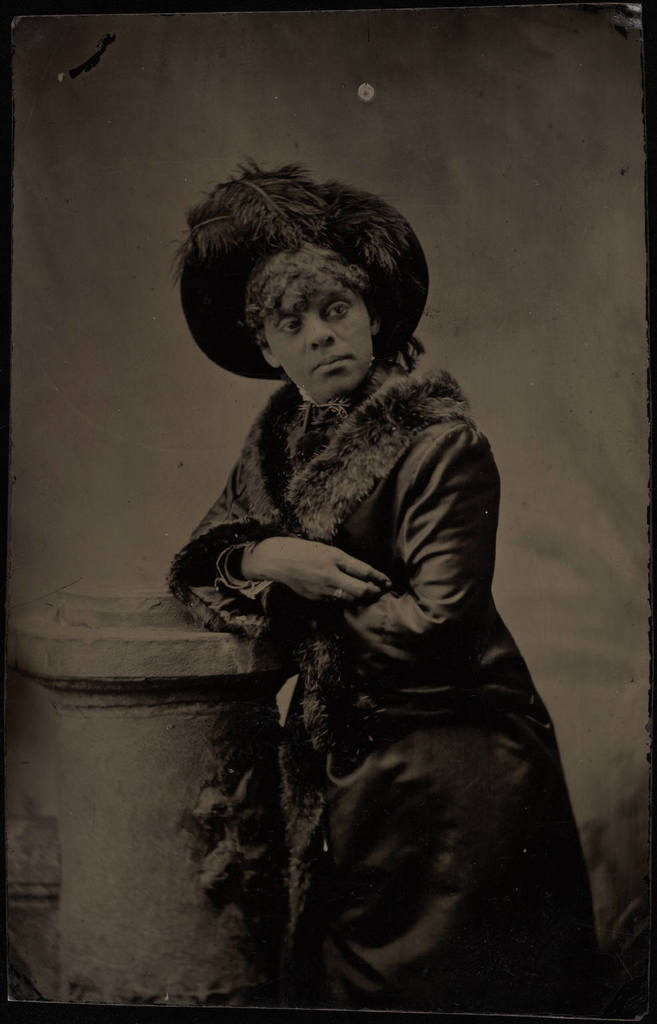hats: (177, 160, 432, 431)
